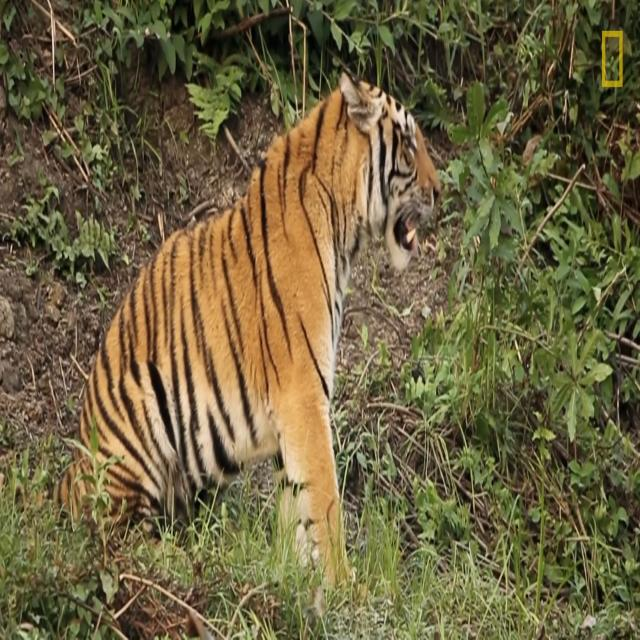TIGER: (74, 70, 443, 595)
